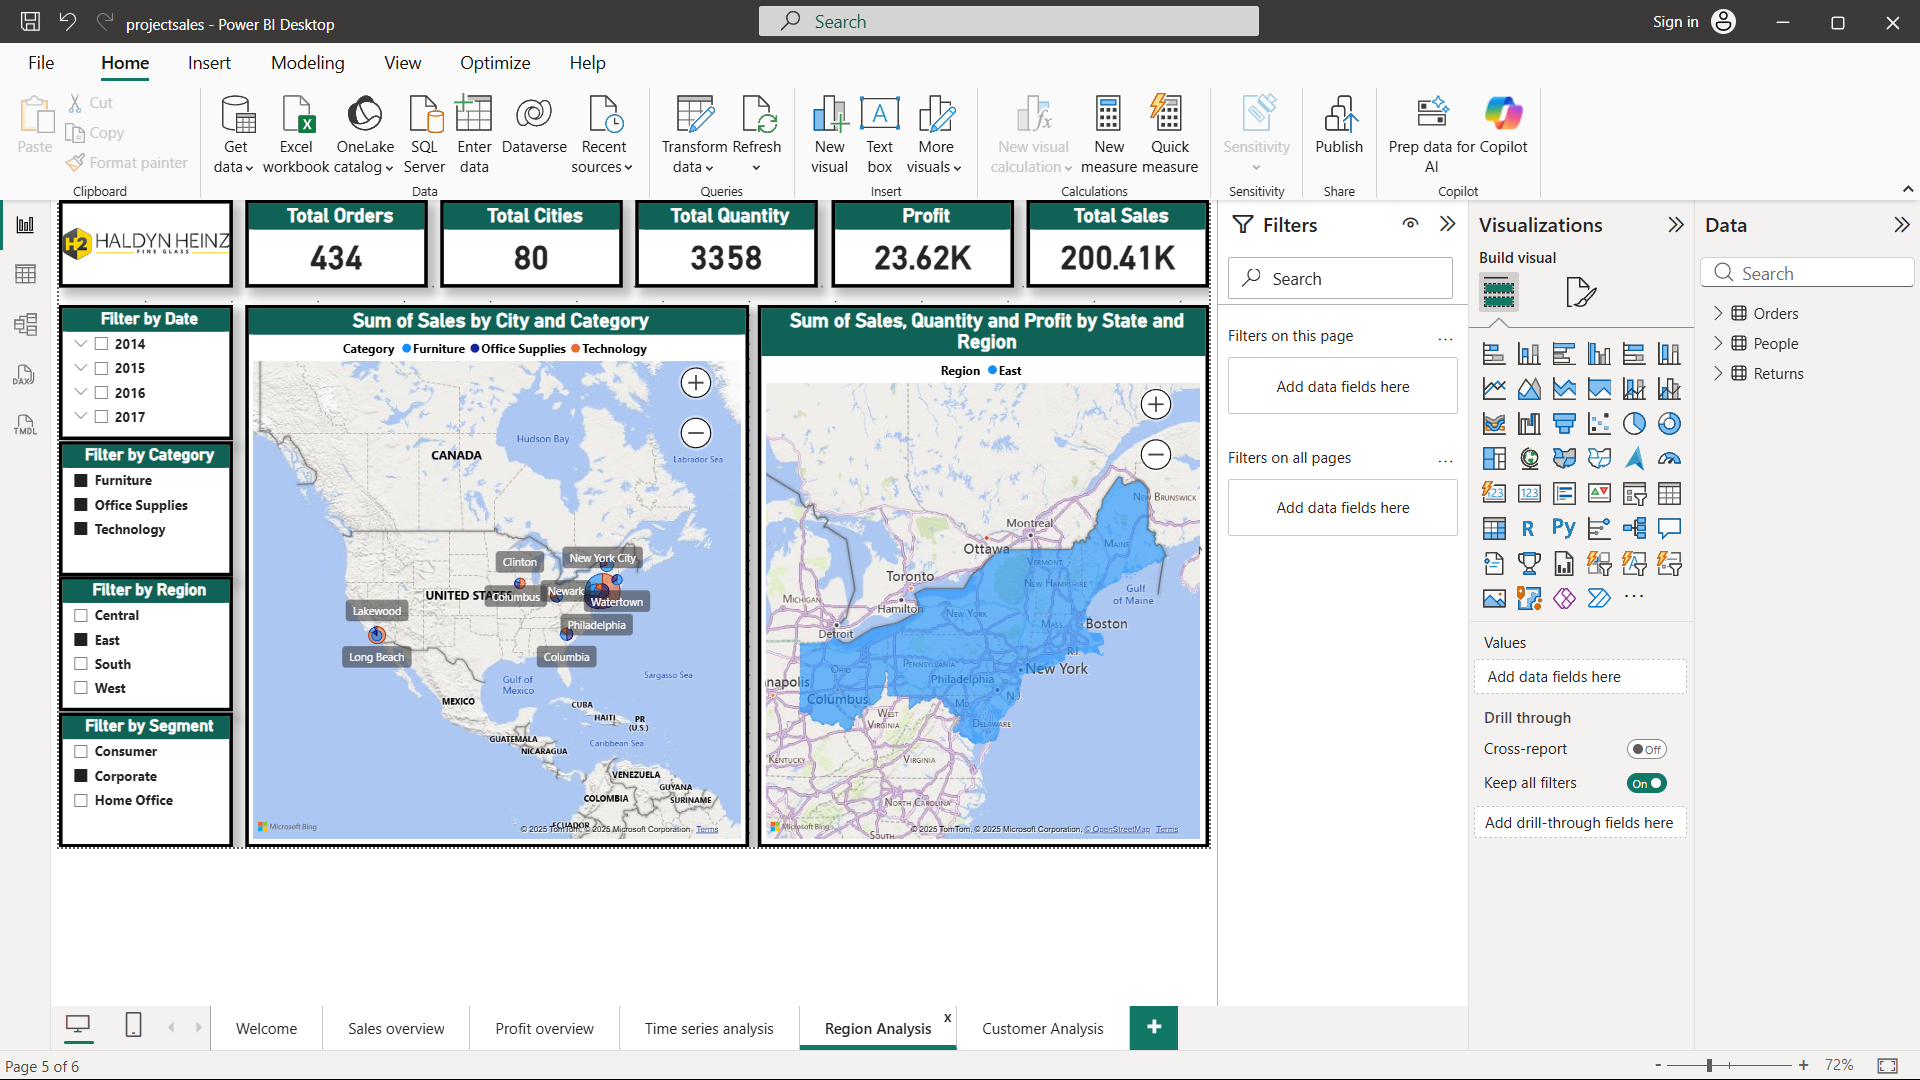

The dashboard page shown, as its layout file describes it:
{"tool":"powerbi","page":{"name":"Region Analysis","canvas":[1280,720],"ordinal":4},"visuals":[{"type":"image","box":[0,0,193.4,97.4],"z":0},{"type":"card","title":"Total Orders","fields":{"Values":["Count(Orders.Order ID)"]},"box":[207.3,0,203.1,97.4],"z":1000},{"type":"card","title":"Total Cities","fields":{"Values":["Count(Orders.City)"]},"box":[424.7,0,203.1,97.4],"z":2000},{"type":"card","title":"Total Quantity","fields":{"Values":["Sum(Orders.Quantity)"]},"box":[642.1,0,203.1,97.4],"z":3000},{"type":"card","title":"Profit","fields":{"Values":["Sum(Orders.Profit)"]},"box":[859.5,0,203.1,97.4],"z":4000},{"type":"card","title":"Total Sales","fields":{"Values":["Sum(Orders.Sales)"]},"box":[1076.9,0,203.1,97.4],"z":5000},{"type":"slicer","title":"Filter by Date","fields":{"Values":["Orders.Order Date.Variation.Date Hierarchy.Year","Orders.Order Date.Variation.Date Hierarchy.Quarter","Orders.Order Date.Variation.Date Hierarchy.Month","Orders.Order Date.Variation.Date Hierarchy.Day"]},"box":[0,116.9,193.4,150.3],"z":6000},{"type":"slicer","title":"Filter by Category","fields":{"Values":["Orders.Category"]},"box":[0,268.1,193.4,150.3],"z":7000},{"type":"slicer","title":"Filter by Region","fields":{"Values":["Orders.Region"]},"box":[0,419.2,193.4,150.3],"z":8000},{"type":"slicer","title":"Filter by Segment","fields":{"Values":["Orders.Segment"]},"box":[0,569.7,193.4,150.3],"z":9000},{"type":"map","fields":{"Category":["Orders.City"],"Size":["Sum(Orders.Sales)"],"Series":["Orders.Category"]},"box":[207.3,116.9,560.7,603.8],"z":9001},{"type":"filledMap","title":"Sum of Sales, Quantity and Profit by State and Region","fields":{"Category":["Orders.State"],"Series":["Orders.Region"]},"box":[777.7,116.9,502.3,603.8],"z":9002}]}

Visuals, with their boxes on the page's 1280x720 design canvas (x1, y1, x2, y2). These are canvas units, not pixel positions in the 1920x1080 screenshot, which may show the page scaled, cropped or inside an application window:
image: [x1=0, y1=0, x2=193, y2=97]
"Total Orders" card: [x1=207, y1=0, x2=410, y2=97]
"Total Cities" card: [x1=425, y1=0, x2=628, y2=97]
"Total Quantity" card: [x1=642, y1=0, x2=845, y2=97]
"Profit" card: [x1=860, y1=0, x2=1063, y2=97]
"Total Sales" card: [x1=1077, y1=0, x2=1280, y2=97]
"Filter by Date" slicer: [x1=0, y1=117, x2=193, y2=267]
"Filter by Category" slicer: [x1=0, y1=268, x2=193, y2=418]
"Filter by Region" slicer: [x1=0, y1=419, x2=193, y2=570]
"Filter by Segment" slicer: [x1=0, y1=570, x2=193, y2=720]
map - Orders.City x Sum(Orders.Sales): [x1=207, y1=117, x2=768, y2=721]
"Sum of Sales, Quantity and Profit by State and Region" filledMap: [x1=778, y1=117, x2=1280, y2=721]
